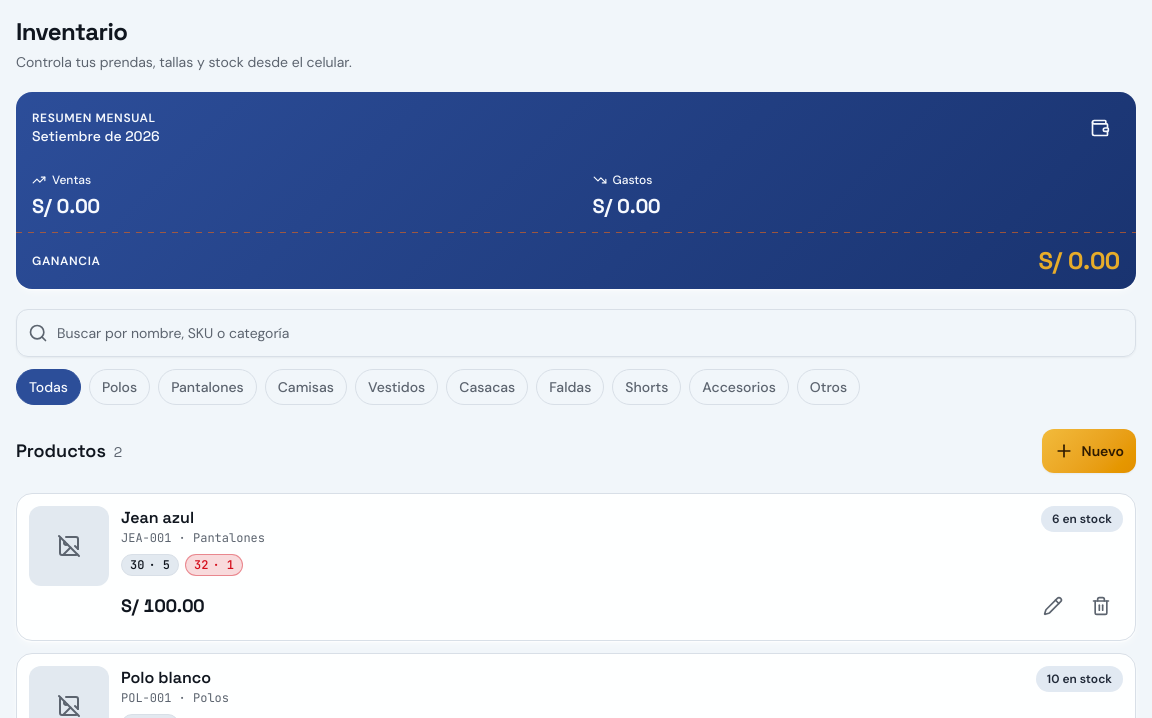
Inventario › filtra la lista por categoría
Click the button with test id "inventario.filter.polos" at (120,387), box [89,369,150,405]
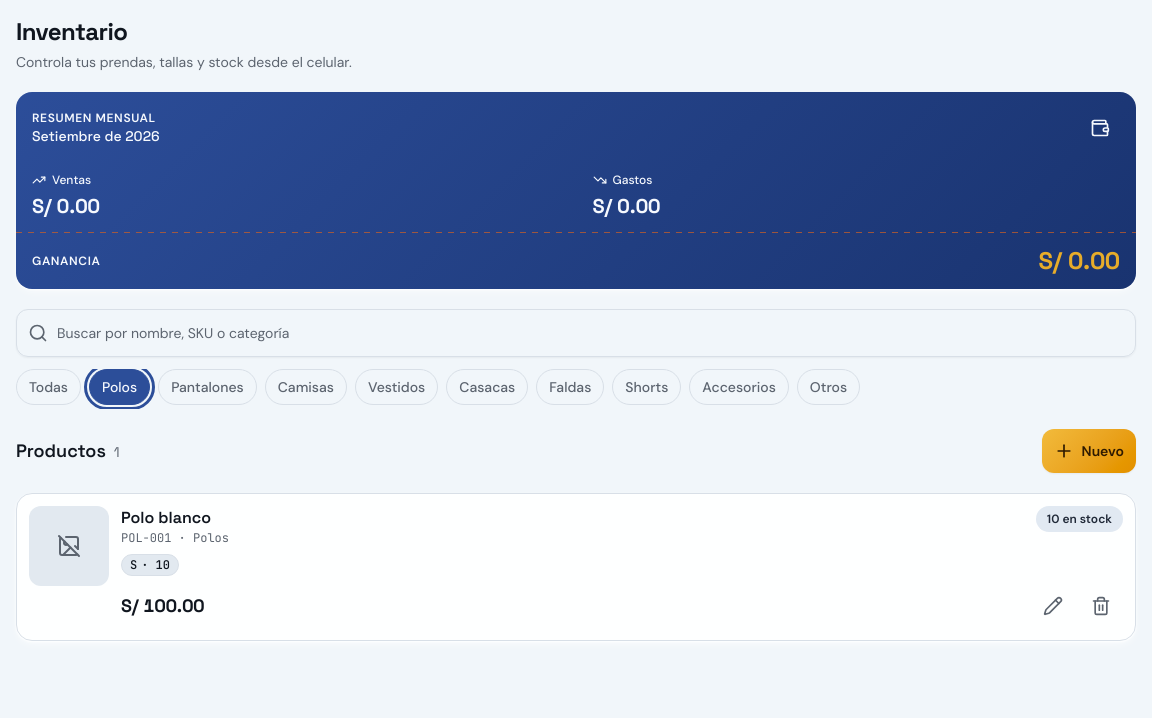
Expected: the heading "Polo blanco" is shown, [121,507,211,528]
Expected: the heading "Jean azul" is gone
